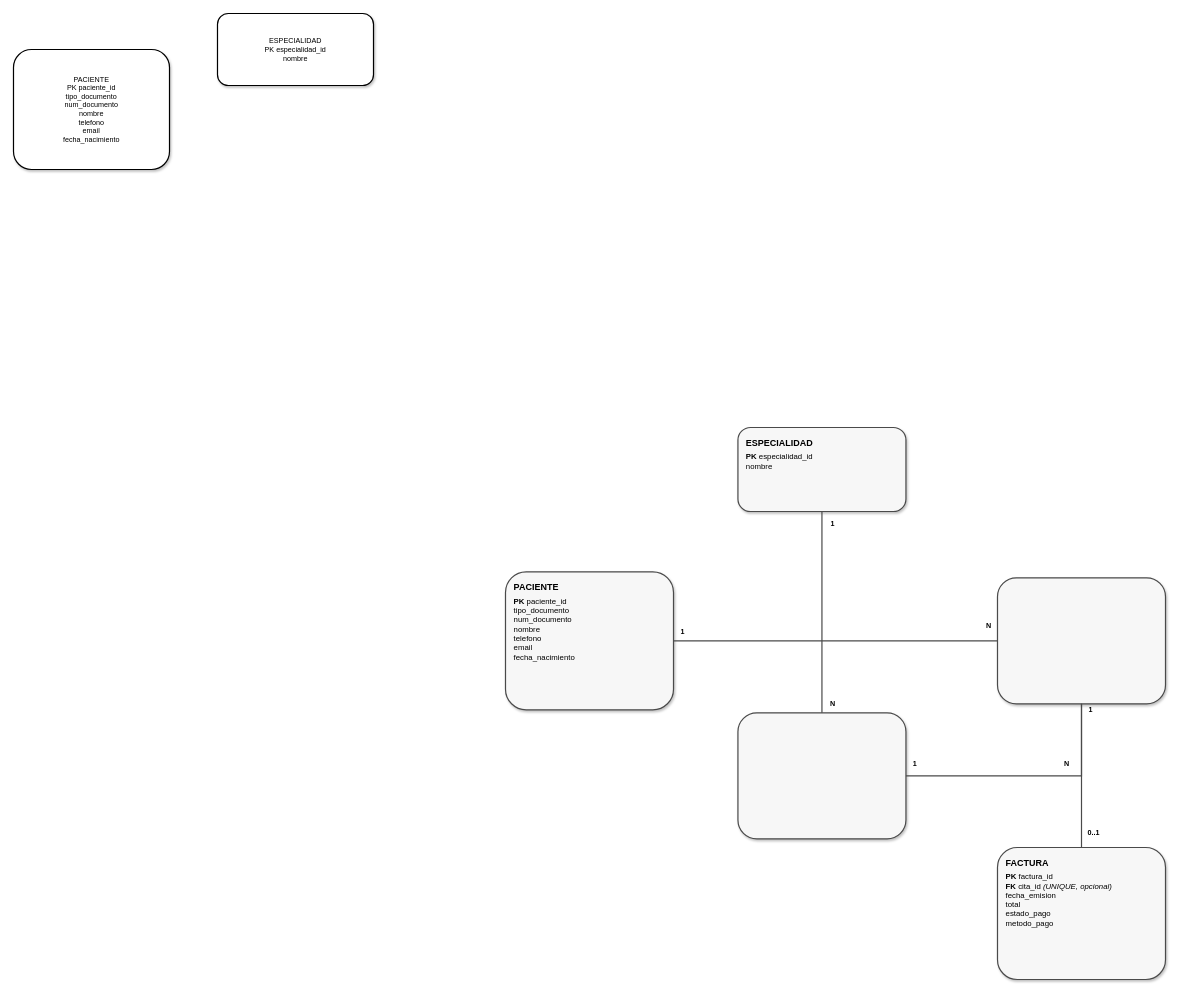
Image size: 1180x994. Some labels were removed from this diagram. The shapes that lost their labels are listed below. From the top down, each one's centre as x and y in pixels, then its label:
At (x=1081, y=641): "CITA PK cita_id FK paciente_id FK medico_id fecha_hora estado motivo".
At (x=822, y=776): "MEDICO PK medico_id FK especialidad_id nombre registro_medico telefono email".
